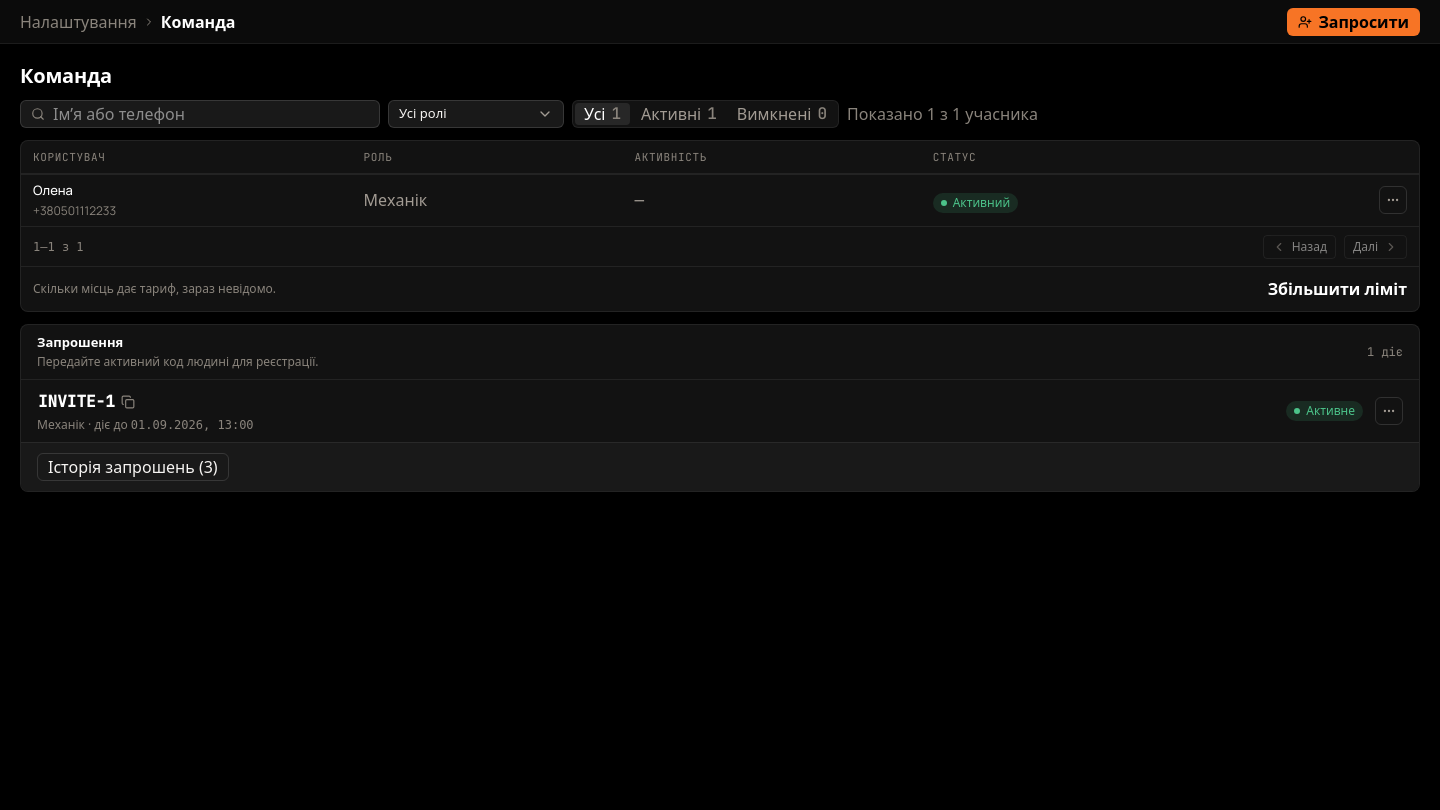
Test case: marks invitation lifecycle states and only allows revoking active invitations
Click the button "Історія запрошень (3)".
click(133, 466)  # box 37,452 -> 229,480
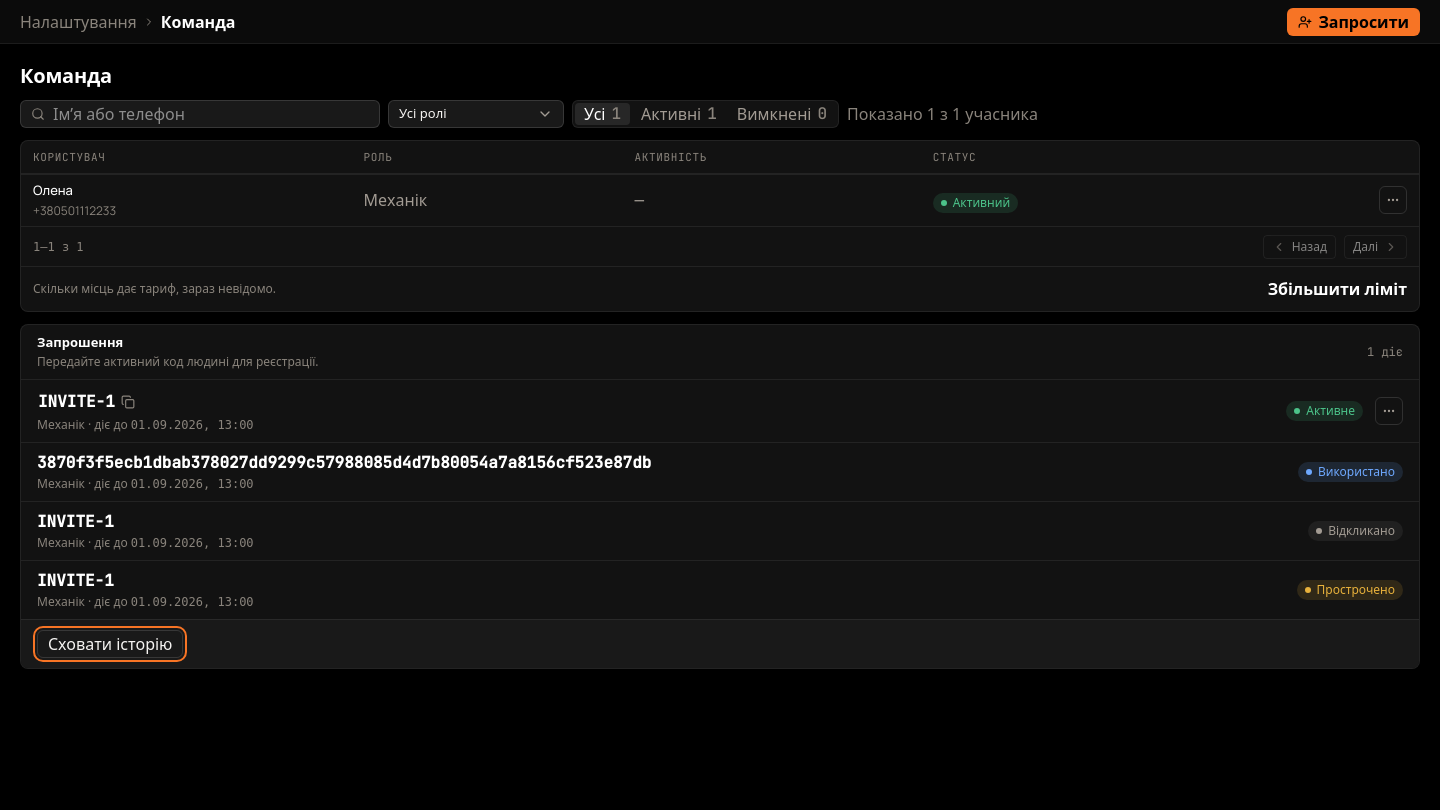
Expected: the text "Використано" is shown, 1298,462 -> 1403,482
Expected: the text "Відкликано" is shown, 1308,520 -> 1403,540
Expected: the text "Прострочено" is shown, 1297,580 -> 1403,600
